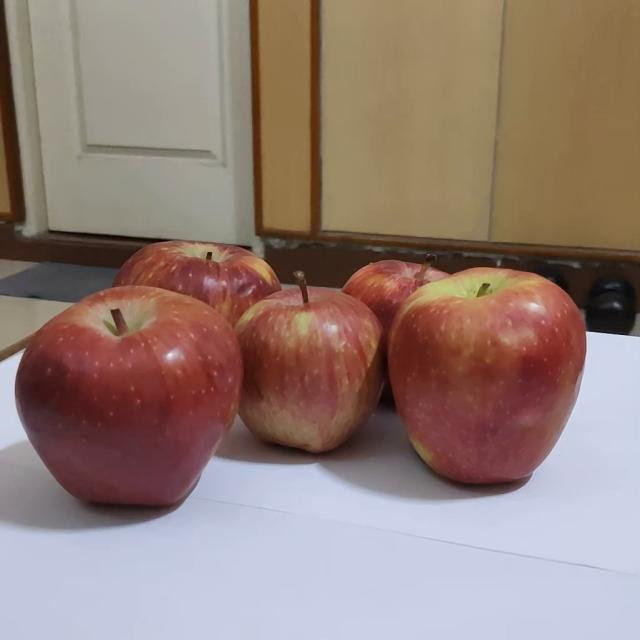apple: (17, 293, 249, 541), (69, 247, 264, 434), (412, 285, 598, 479), (252, 305, 419, 471), (299, 245, 440, 381)
